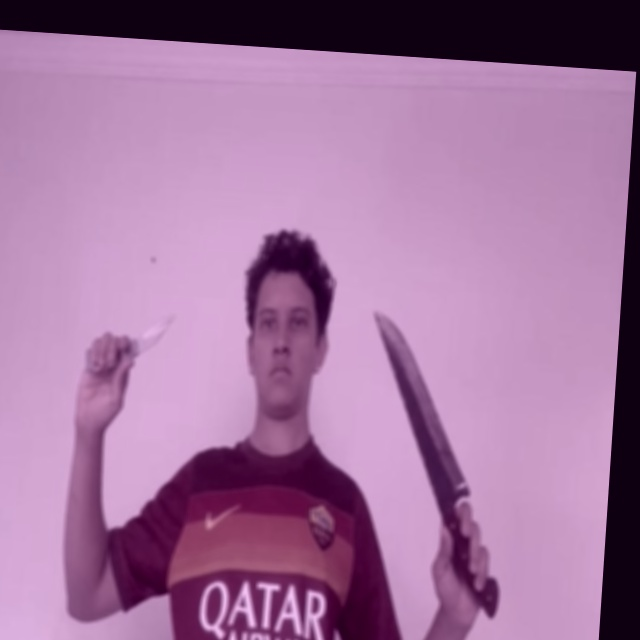Sharp-Object: (362, 309, 480, 501), (133, 309, 176, 359)
